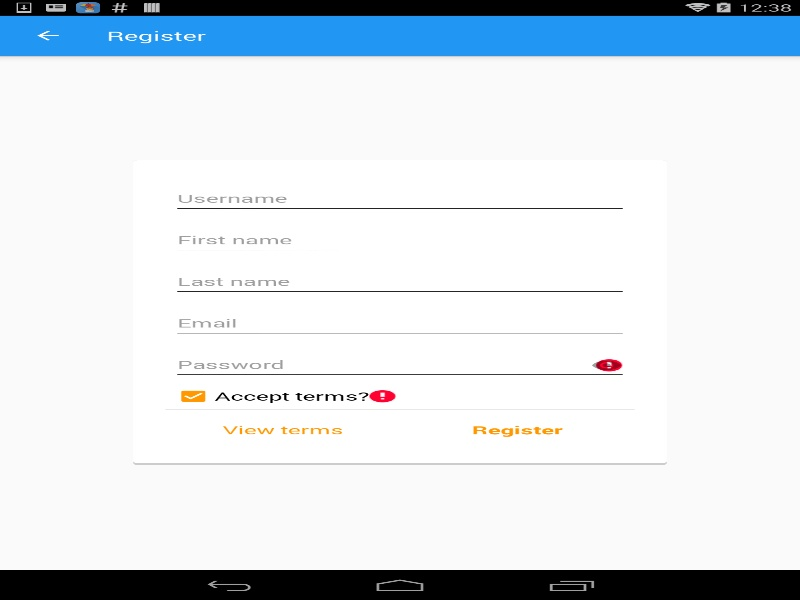Button: (406, 413, 628, 446), (172, 413, 393, 446), (10, 15, 85, 55), (585, 351, 628, 379)
Input: (172, 226, 628, 255), (172, 351, 628, 380), (172, 185, 628, 213), (172, 268, 628, 296), (172, 310, 628, 338)
